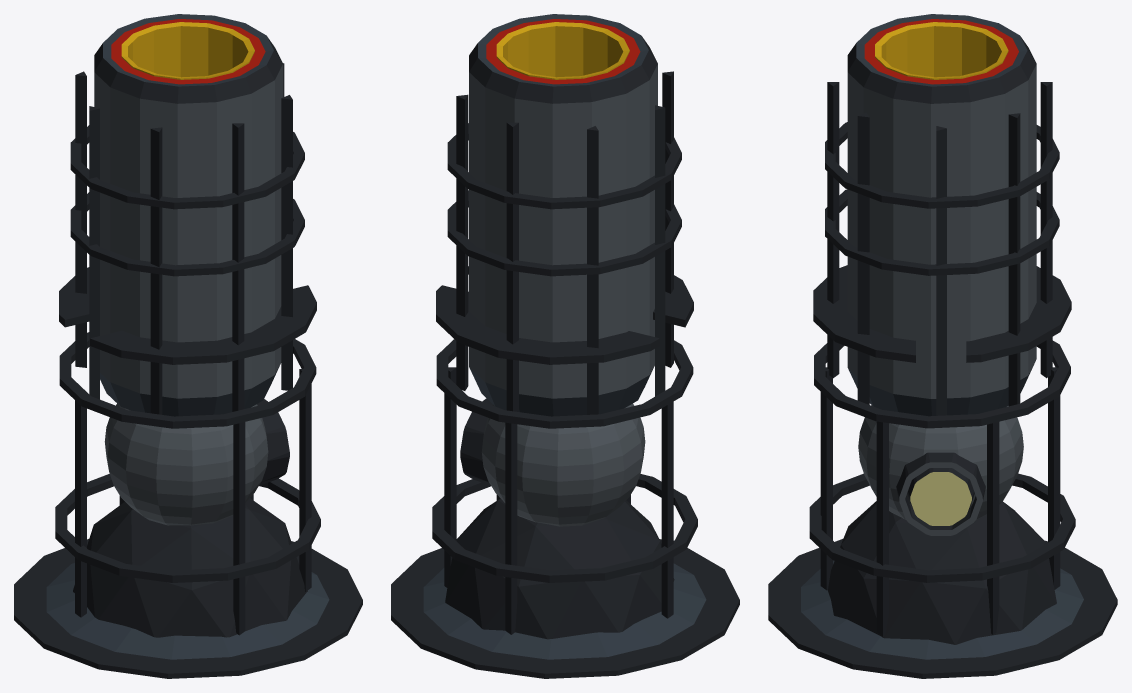
Rendered from Generator.fbx.
3 renders of one model, left to right at view 1: azimuth 30°, elevation 25°; view 2: azimuth 150°, elevation 25°; view 3: azimuth 270°, elevation 25°, orthographic.
Visible parts, largest first — view 1: Cylinder.001; view 2: Cylinder.001; view 3: Cylinder.001.
Part boxes in pixels (x1=…): Cylinder.001: x1=14, y1=14, x2=362, y2=678; Cylinder.001: x1=391, y1=14, x2=739, y2=678; Cylinder.001: x1=768, y1=14, x2=1117, y2=678.
Size of the model in its own units: 1446 by 2525 by 1438.
